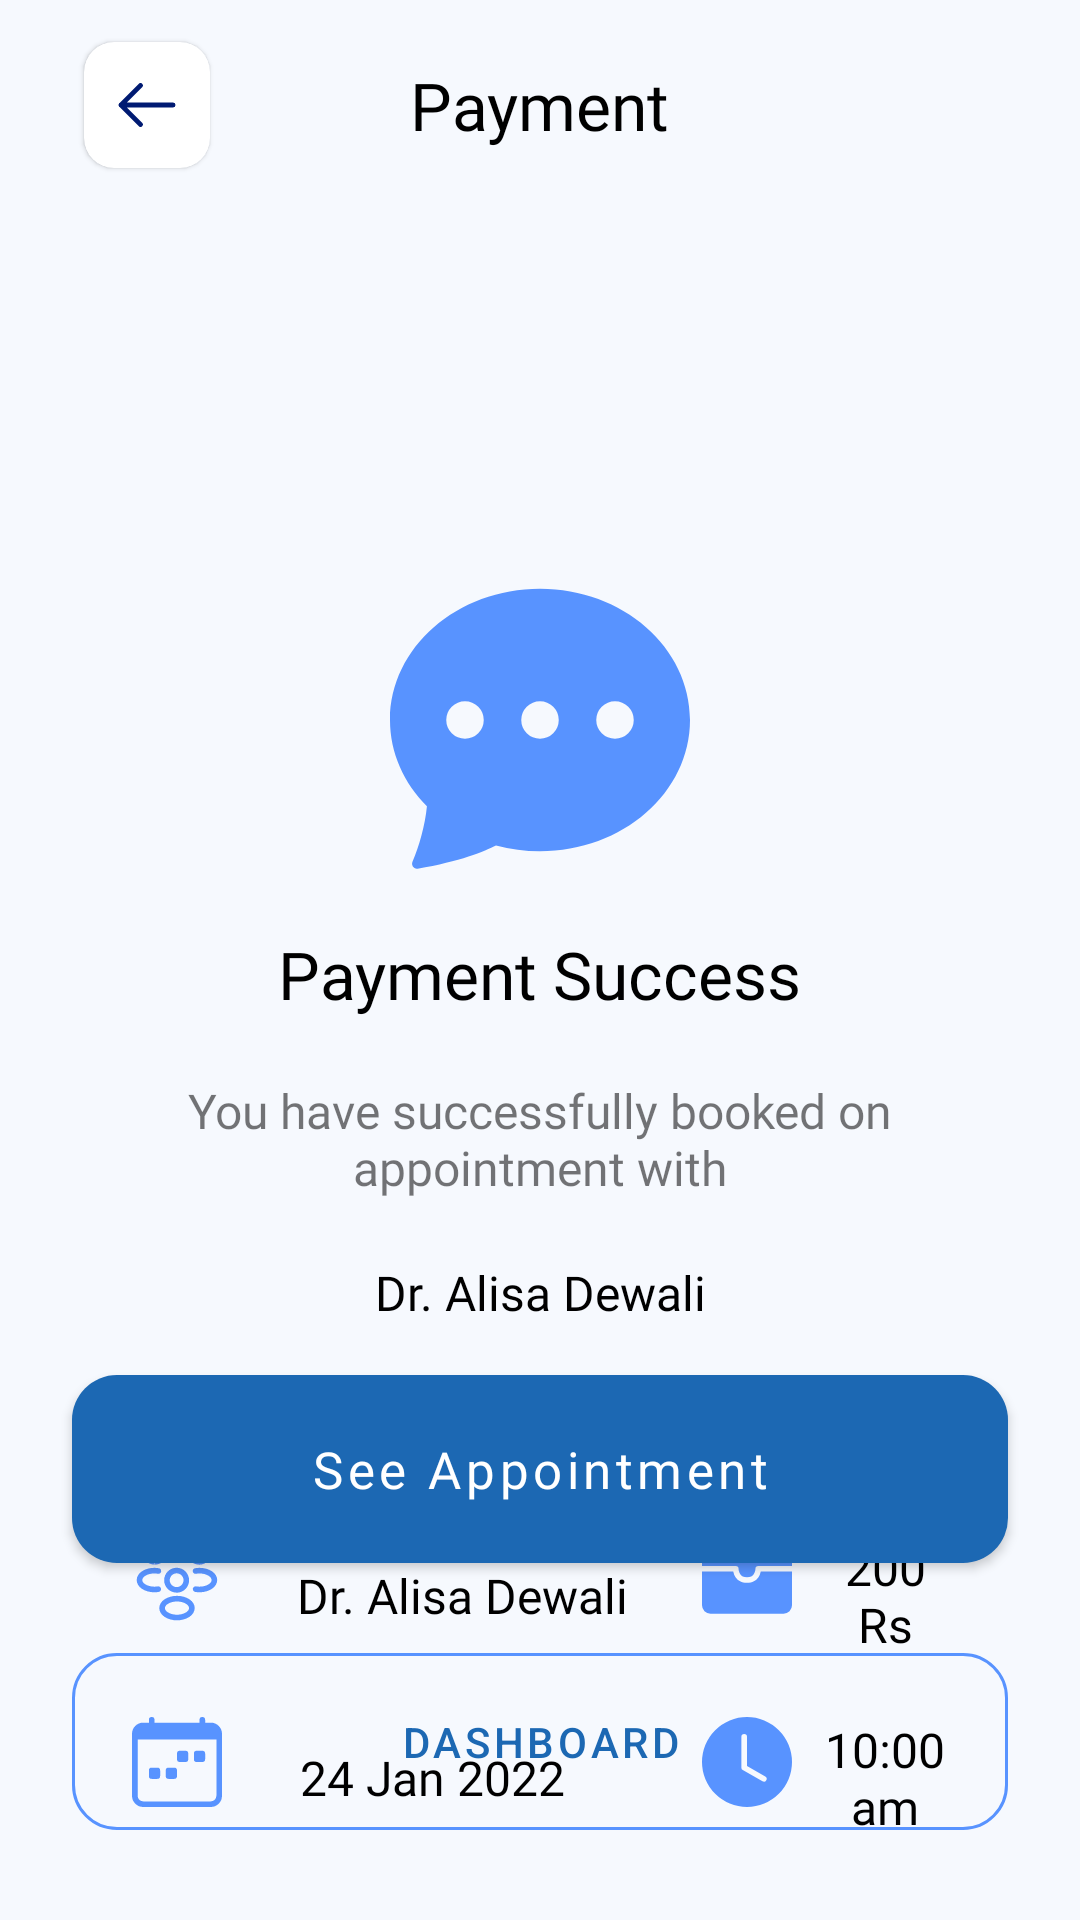

Icons on this 1080x1920 Android screen, each with its box as (x1, y1, x2, y2):
arrow left: (84, 42, 210, 168)
calendar week: (132, 1717, 222, 1807)
chat dots: (390, 588, 690, 869)
clock: (702, 1717, 792, 1807)
